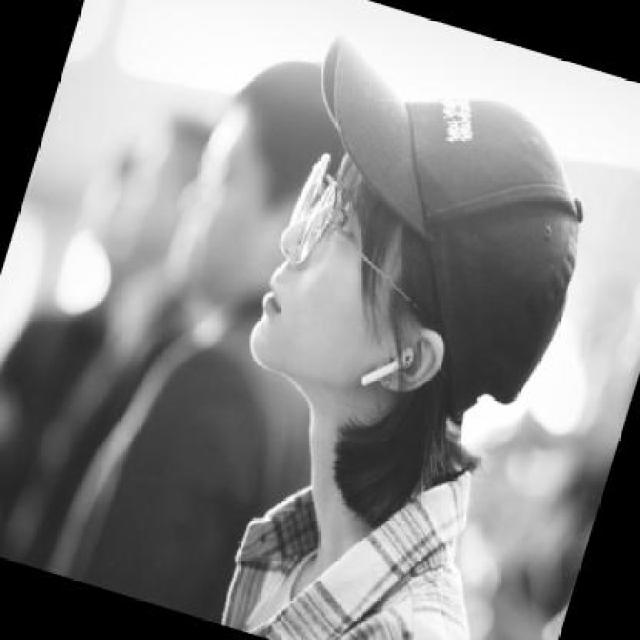earphone: (344, 344, 429, 393)
